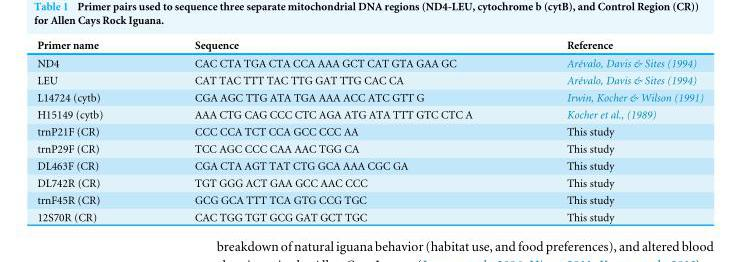table: (36, 37, 702, 223)
table column: (148, 37, 518, 223), (518, 37, 702, 223), (36, 37, 148, 223)
table column header: (36, 37, 702, 53)
table row: (36, 87, 702, 105), (36, 53, 702, 70), (36, 70, 702, 87), (36, 105, 702, 122), (36, 122, 702, 139), (36, 139, 702, 156), (36, 156, 702, 173), (36, 173, 702, 190), (36, 190, 702, 207), (36, 37, 702, 53), (36, 207, 702, 223)
